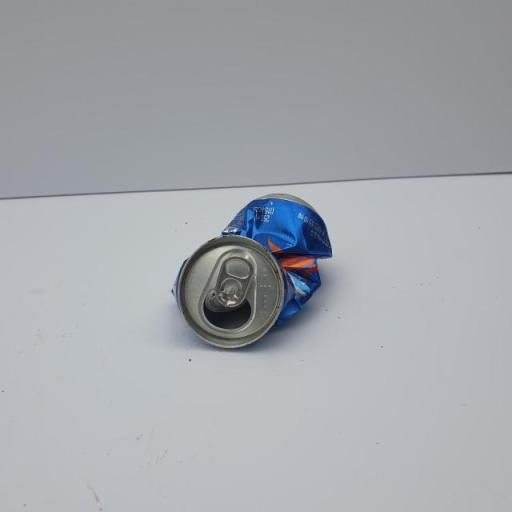metal: (145, 140, 385, 383)
